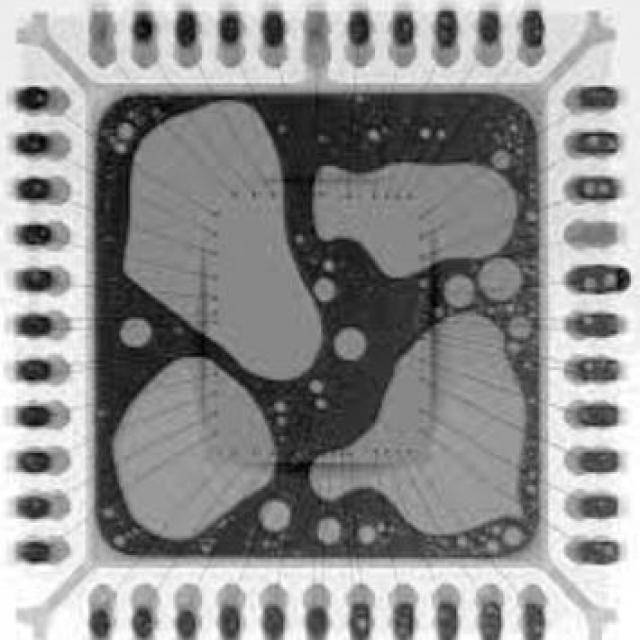component: (97, 94, 541, 558)
void: (124, 102, 323, 380), (310, 313, 526, 535), (114, 359, 276, 541), (314, 162, 519, 278), (480, 259, 525, 303), (335, 328, 368, 362), (260, 500, 292, 534), (445, 276, 476, 310), (121, 319, 153, 348), (317, 519, 343, 547), (314, 278, 337, 304), (510, 317, 534, 341), (505, 527, 526, 548), (359, 527, 379, 547), (492, 151, 514, 169), (117, 123, 135, 141), (201, 540, 218, 556), (310, 379, 325, 396), (368, 128, 382, 143), (101, 508, 115, 521), (420, 126, 433, 139), (274, 402, 288, 414), (114, 143, 127, 155), (315, 400, 328, 412), (317, 134, 332, 144), (114, 536, 126, 548), (323, 261, 335, 273), (436, 128, 447, 141), (434, 306, 445, 319), (420, 279, 431, 290), (278, 123, 288, 135), (296, 234, 305, 244), (173, 327, 184, 335)
